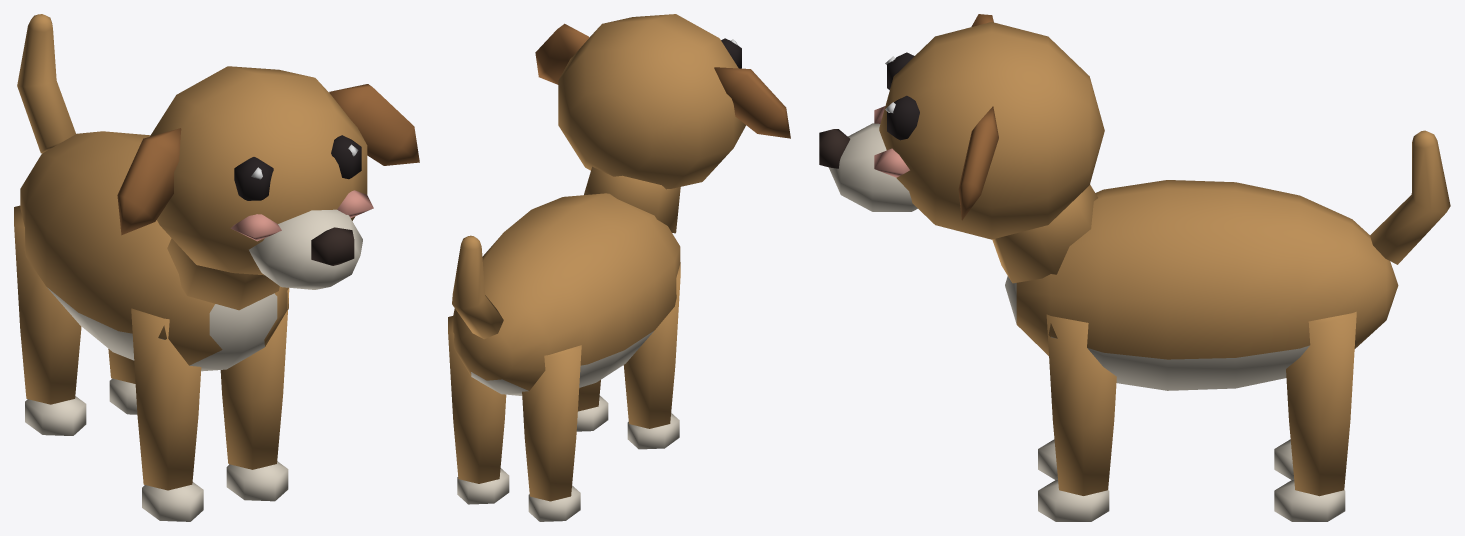
The model's file is puppy.glb.
3 renders of one model, left to right at view 1: azimuth 30°, elevation 25°; view 2: azimuth 150°, elevation 25°; view 3: azimuth 270°, elevation 25°, orthographic. The views are drawn at different scales.
Visible parts, largest first — view 1: head, body, leg_fr, leg_br, leg_fl, tail, head_body_nh, leg_bl; view 2: head, body, leg_br, leg_bl, leg_fr, tail, leg_fl; view 3: body, head, leg_bl, leg_fl, tail, head_body_nh.
Boxes of the visible parts, x1=… form: head: x1=117, y1=66, x2=419, y2=310; body: x1=20, y1=131, x2=288, y2=371; leg_fr: x1=131, y1=308, x2=203, y2=521; leg_br: x1=14, y1=205, x2=86, y2=435; leg_fl: x1=220, y1=288, x2=289, y2=501; tail: x1=17, y1=14, x2=75, y2=153; head_body_nh: x1=230, y1=135, x2=373, y2=241; leg_bl: x1=108, y1=349, x2=137, y2=414; head: x1=535, y1=14, x2=790, y2=233; body: x1=453, y1=193, x2=680, y2=395; leg_br: x1=522, y1=345, x2=581, y2=521; leg_bl: x1=448, y1=316, x2=509, y2=504; leg_fr: x1=623, y1=262, x2=680, y2=449; tail: x1=452, y1=235, x2=503, y2=339; leg_fl: x1=576, y1=380, x2=608, y2=431; body: x1=1005, y1=180, x2=1398, y2=390; head: x1=819, y1=14, x2=1104, y2=283; leg_bl: x1=1274, y1=311, x2=1356, y2=521; leg_fl: x1=1038, y1=314, x2=1116, y2=521; tail: x1=1370, y1=130, x2=1450, y2=264; head_body_nh: x1=874, y1=52, x2=919, y2=177.
Size of the model in its own units: 0.3174 by 0.4727 by 0.5774.
